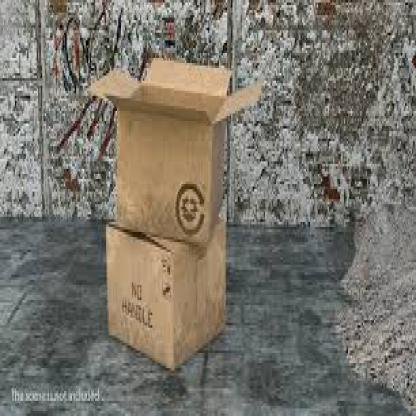CARDBOARD: (90, 56, 261, 242), (103, 211, 224, 370), (116, 111, 210, 247), (105, 224, 174, 366)
